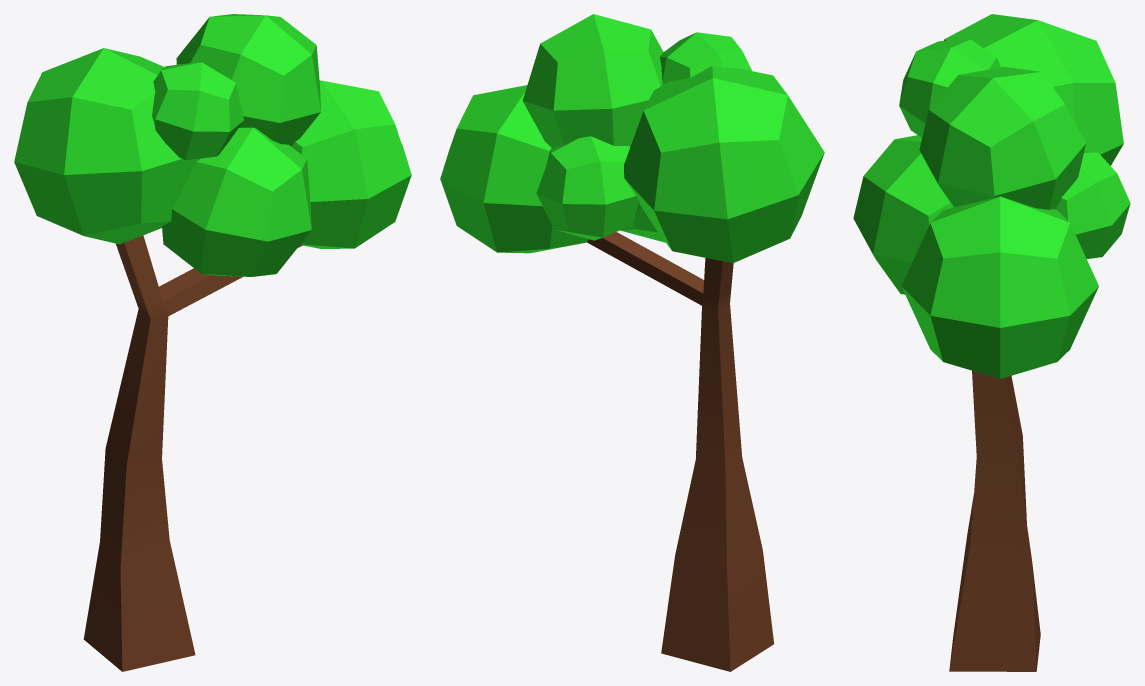
The model's file is tree4.fbx.
3 views of the same model, side by side, from view 1: azimuth 30°, elevation 25°; view 2: azimuth 150°, elevation 25°; view 3: azimuth 270°, elevation 25° (orthographic). The views are drawn at different scales.
Parts seen in each view (by area): view 1: tree4; view 2: tree4; view 3: tree4.
Part boxes in pixels (bbox=[...]): tree4: bbox=[14, 14, 411, 671]; tree4: bbox=[440, 14, 824, 671]; tree4: bbox=[853, 14, 1130, 671].
Size of the model in its own units: 1.36 by 2.14 by 0.8368.
